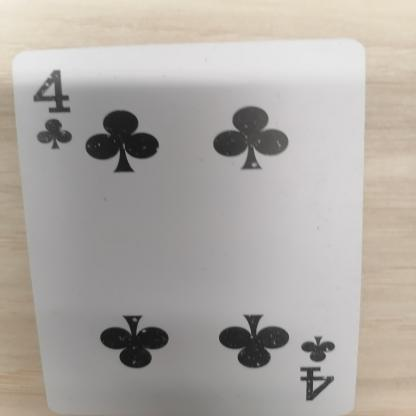4C: (31, 64, 88, 156), (300, 324, 347, 412)
